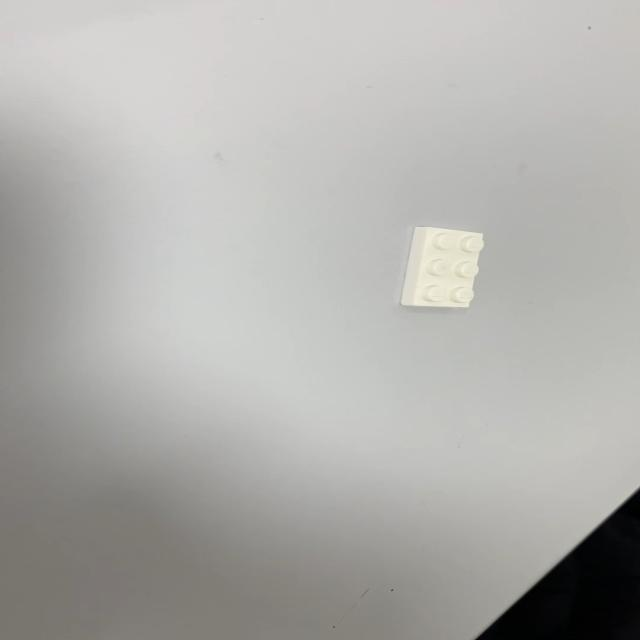C3x2x0: (398, 225, 485, 308)
